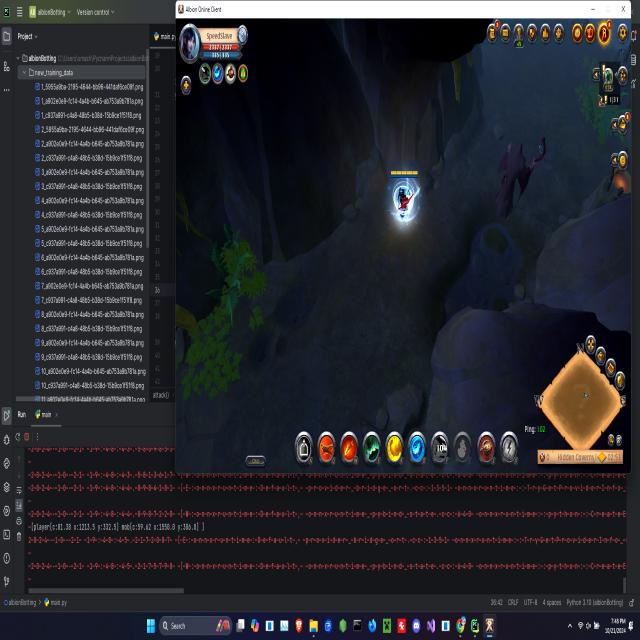ore: (489, 130, 550, 224)
red: (390, 169, 420, 223)
